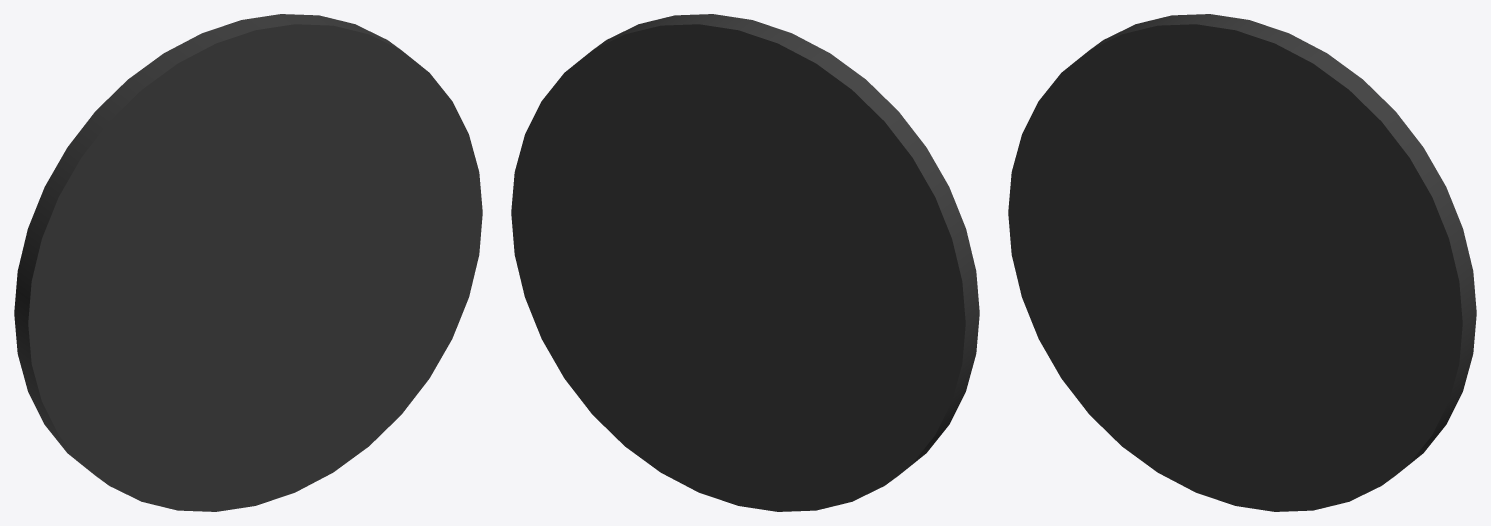
File: 7376f9962a00_1_Medal.glb
3 views of the same model, side by side, from view 1: azimuth 30°, elevation 25°; view 2: azimuth 150°, elevation 25°; view 3: azimuth 330°, elevation 25° (orthographic).
Parts seen in each view (by area): view 1: 7376f9962a00_1_Medal.obj; view 2: 7376f9962a00_1_Medal.obj; view 3: 7376f9962a00_1_Medal.obj.
Boxes of the visible parts, x1,y1,x2,y2 form: 7376f9962a00_1_Medal.obj: (14,14,482,511); 7376f9962a00_1_Medal.obj: (511,14,979,511); 7376f9962a00_1_Medal.obj: (1008,14,1476,511).
Size of the model in its own units: 1.5 by 1.5 by 0.08.
1 material, 1 textured.
